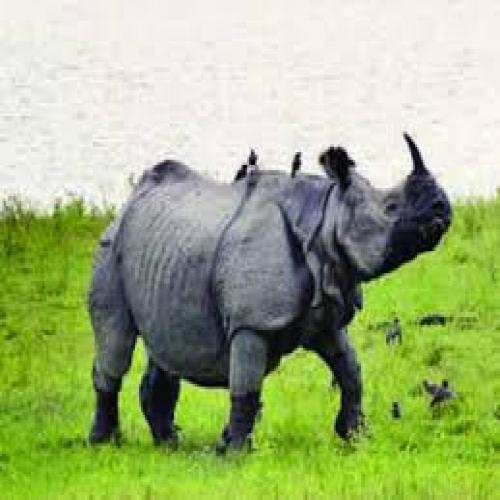rhino-endangered: (88, 130, 454, 458)
